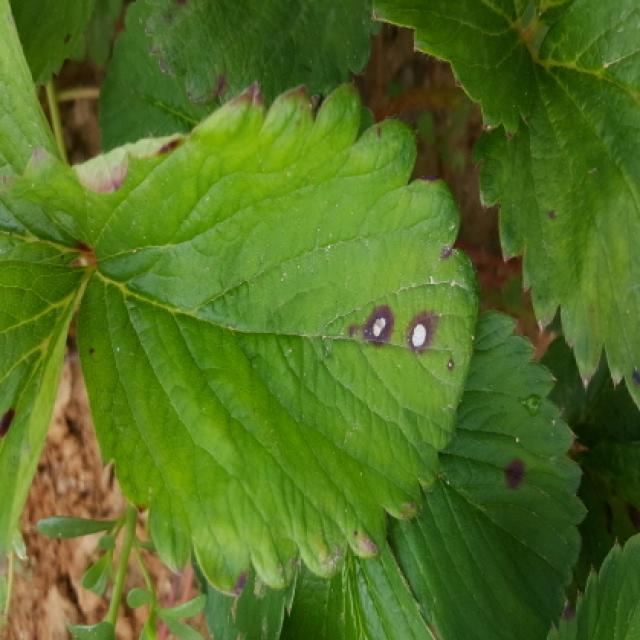Leaf Spot: (76, 76, 481, 598), (468, 0, 638, 406), (388, 309, 589, 638), (0, 230, 92, 625), (139, 0, 375, 116), (2, 135, 189, 246), (6, 0, 124, 88), (545, 533, 638, 638)
